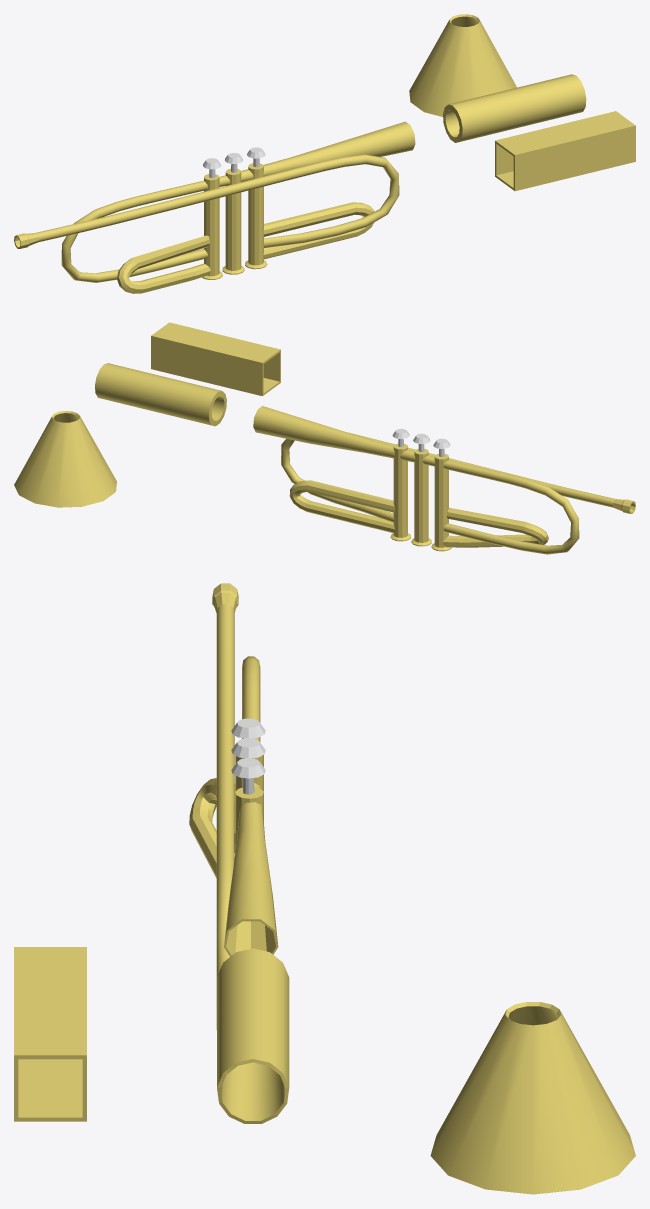
Rendered from trumpet tools.fbx.
3 renders of one model, top to bottom at view 1: azimuth 30°, elevation 25°; view 2: azimuth 150°, elevation 25°; view 3: azimuth 270°, elevation 25°, orthographic. The views are drawn at different scales.
Parts seen in each view (by area): view 1: polySurface2, pCube2, pCone1, pCylinder17; view 2: polySurface2, pCone1, pCube2, pCylinder17; view 3: pCone1, polySurface2, pCube2, pCylinder17.
Part boxes in pixels (x1,y1,x2,y2): polySurface2: (14, 121, 415, 293); pCube2: (495, 111, 635, 191); pCone1: (409, 14, 516, 116); pCylinder17: (443, 74, 586, 142); polySurface2: (253, 406, 635, 554); pCone1: (14, 411, 116, 507); pCube2: (151, 322, 280, 396); pCylinder17: (95, 363, 226, 426); pCone1: (430, 1002, 635, 1194); polySurface2: (189, 583, 278, 1029); pCube2: (14, 947, 86, 1121); pCylinder17: (217, 948, 289, 1123).
Size of the model in its own units: 188 by 36.4 by 95.44.
